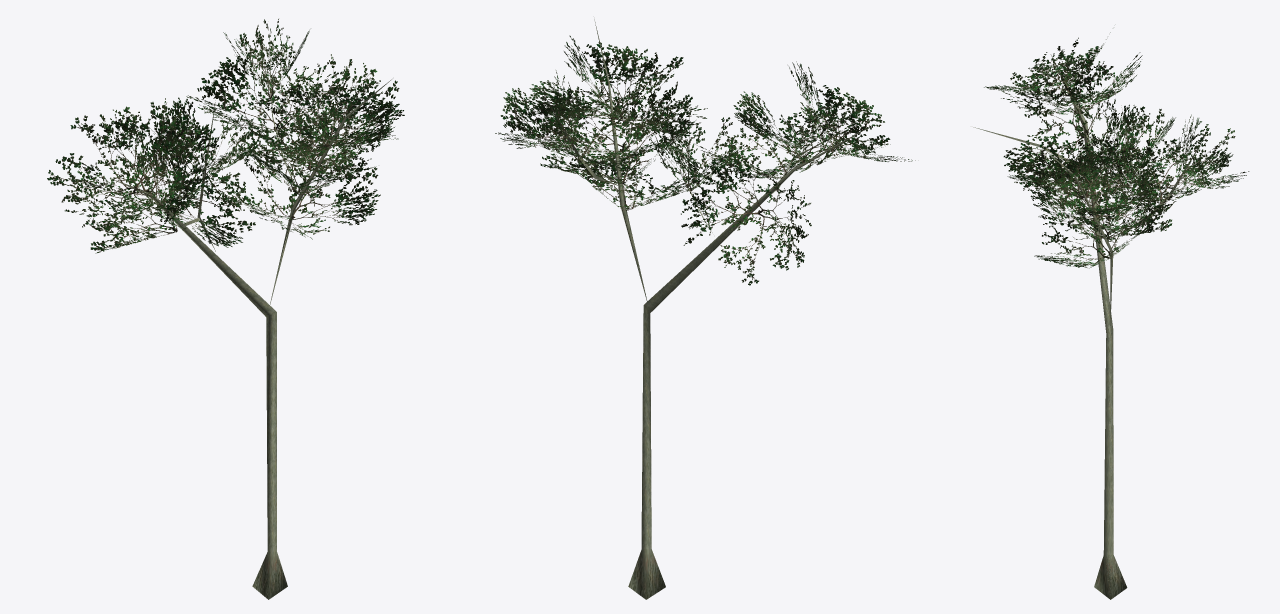
Rendered from nboo_decd_cambylictustree_a1_l2.fbx.
The picture shows the model from 3 angles, left to right: view 1: azimuth 30°, elevation 25°; view 2: azimuth 150°, elevation 25°; view 3: azimuth 270°, elevation 25°; orthographic projection. The views are drawn at different scales.
Parts seen in each view (by area): view 1: mesh_node; view 2: mesh_node; view 3: mesh_node.
Boxes of the visible parts, x1,y1,x2,y2 form: mesh_node: [47, 19, 404, 599]; mesh_node: [495, 19, 915, 599]; mesh_node: [973, 32, 1249, 599].
Bounding box in the file's own units: 27.46 × 38.03 × 19.8.
